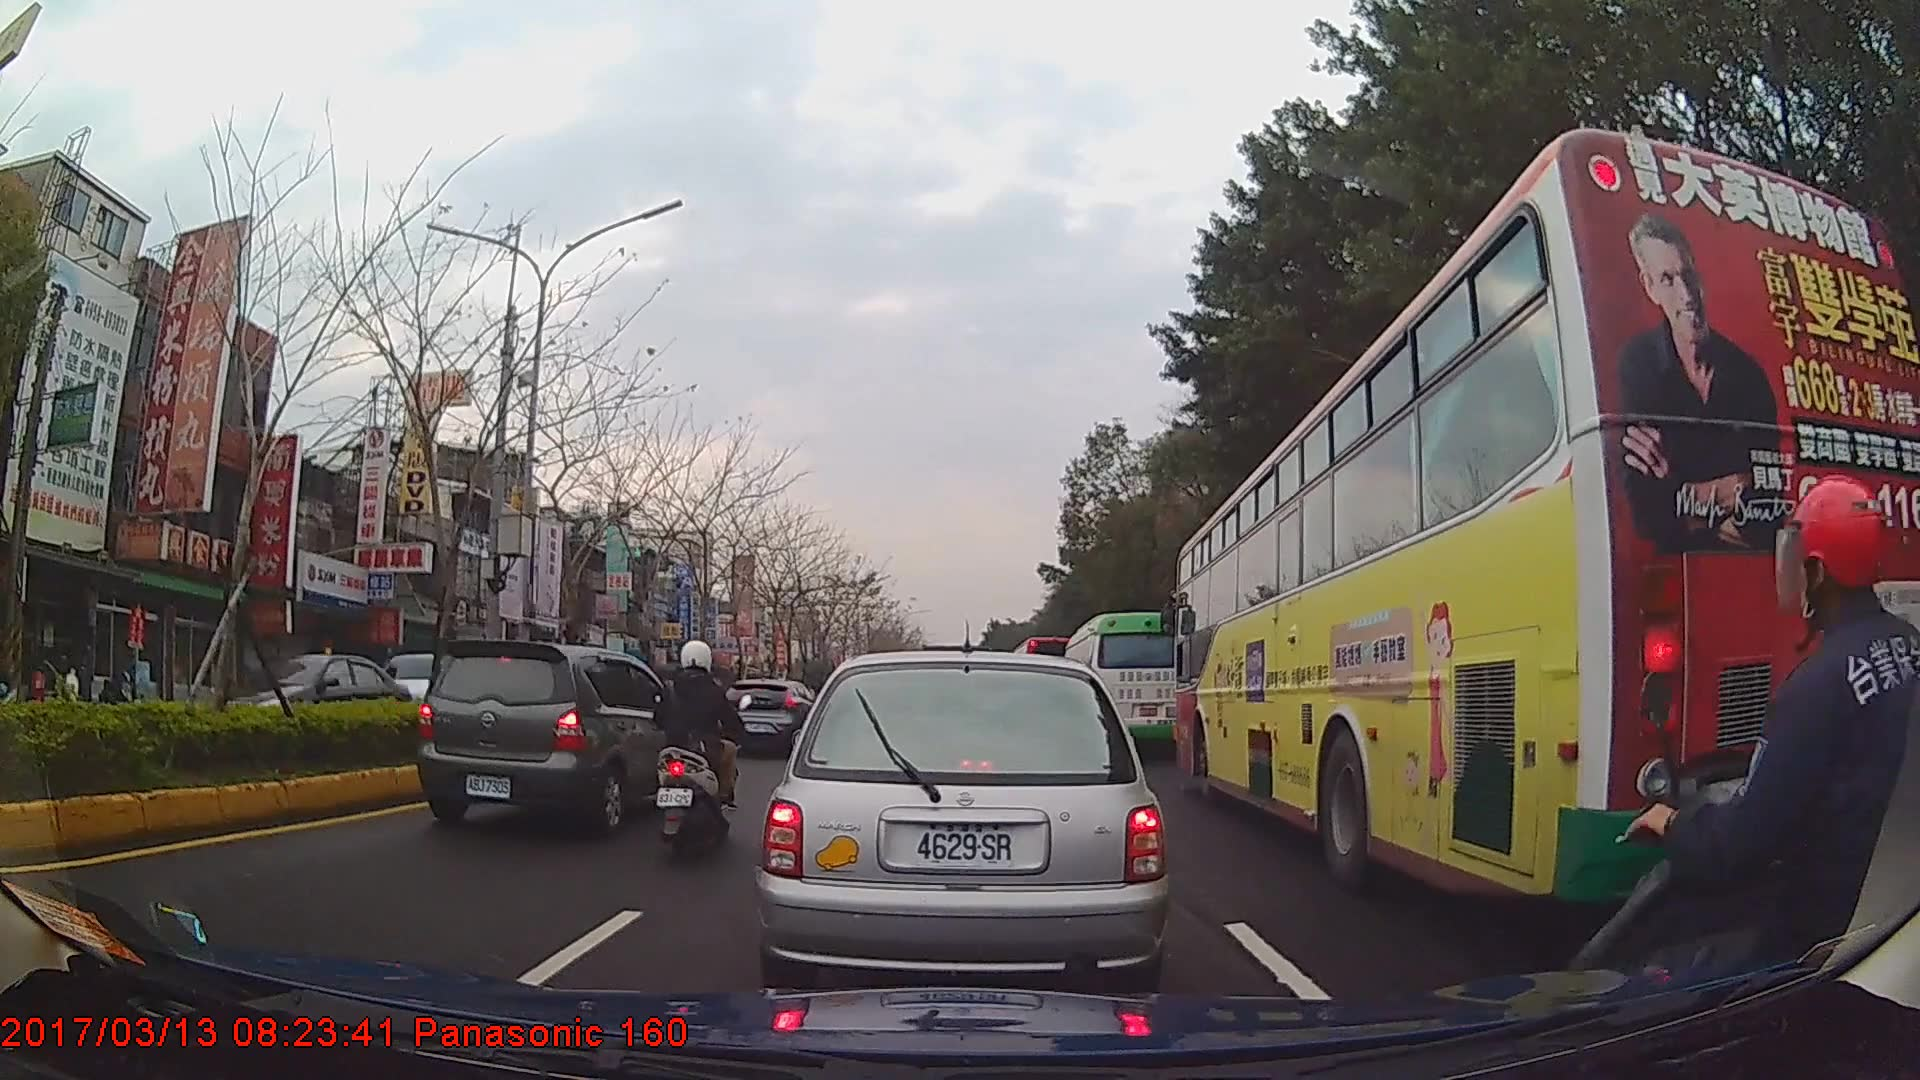rider: (1587, 468, 1914, 1079), (653, 638, 746, 851)
vehicle: (1172, 126, 1919, 907), (758, 651, 1168, 999), (417, 639, 684, 834), (214, 649, 411, 752), (1062, 610, 1188, 759), (718, 676, 821, 757)
